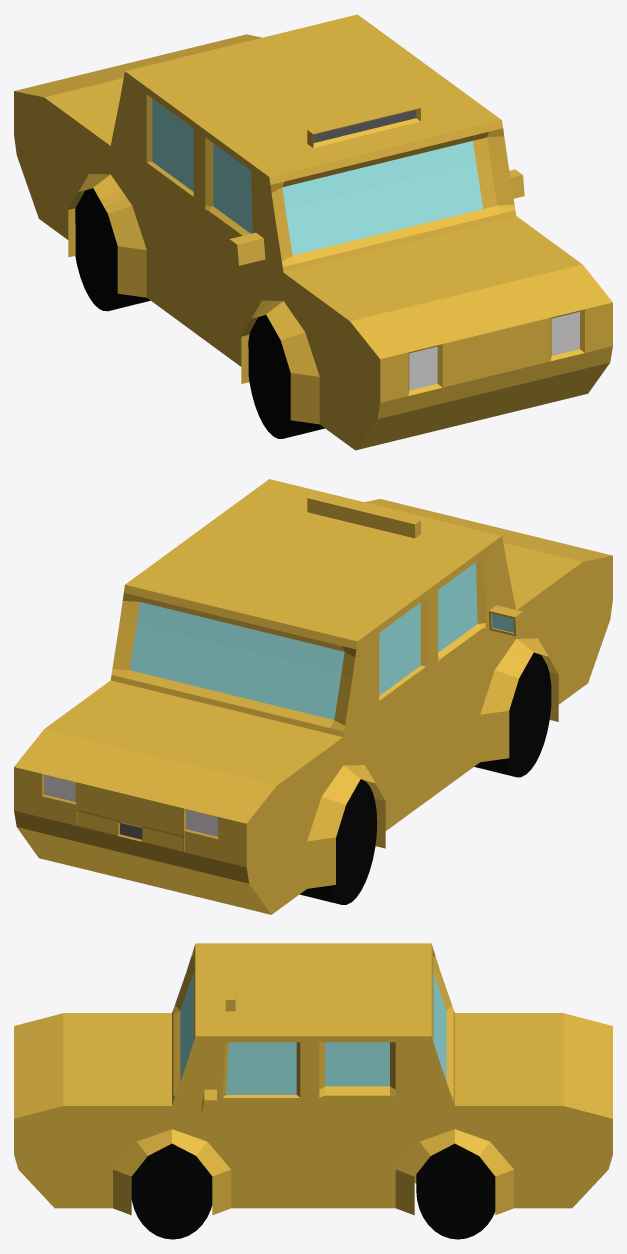
Rendered from car.fbx.
3 views of the same model, one above another, from view 1: azimuth 30°, elevation 25°; view 2: azimuth 150°, elevation 25°; view 3: azimuth 270°, elevation 25° (orthographic). The views are drawn at different scales.
Visible parts, largest first — view 1: carro; view 2: carro; view 3: carro.
Boxes of the visible parts, <box> form: carro: <box>14,14,612,450</box>; carro: <box>14,479,612,914</box>; carro: <box>14,943,612,1239</box>.
Size of the model in its own units: 126 by 110 by 280.
